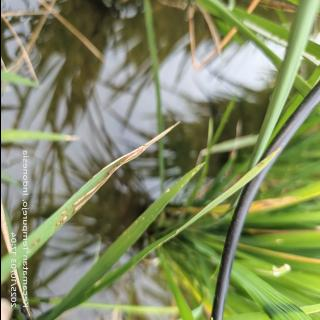bercak-Cokelat: (47, 205, 71, 229)
